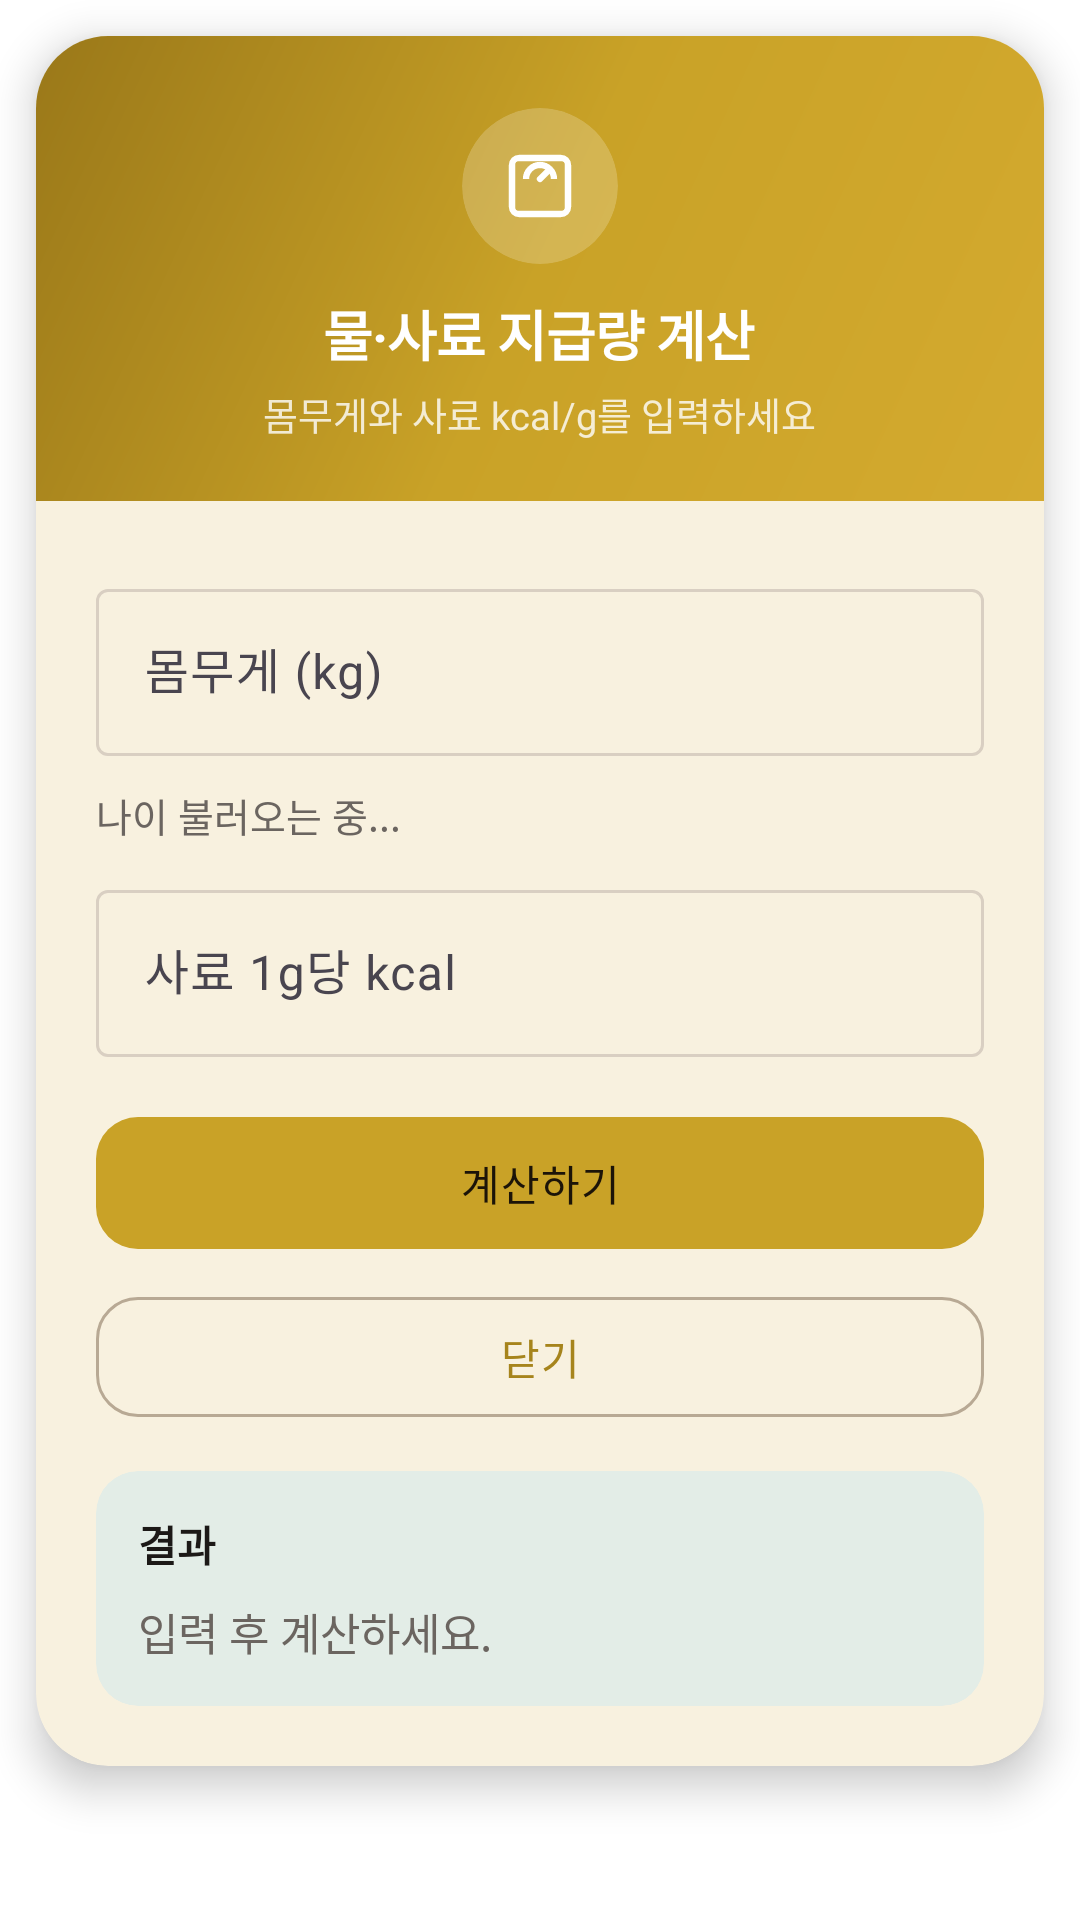

Named icons in this screenshot (1080×1920) and their bounding boxes, BBox(x1, y1, x2, y2):
weight scale: BBox(462, 108, 618, 264)
